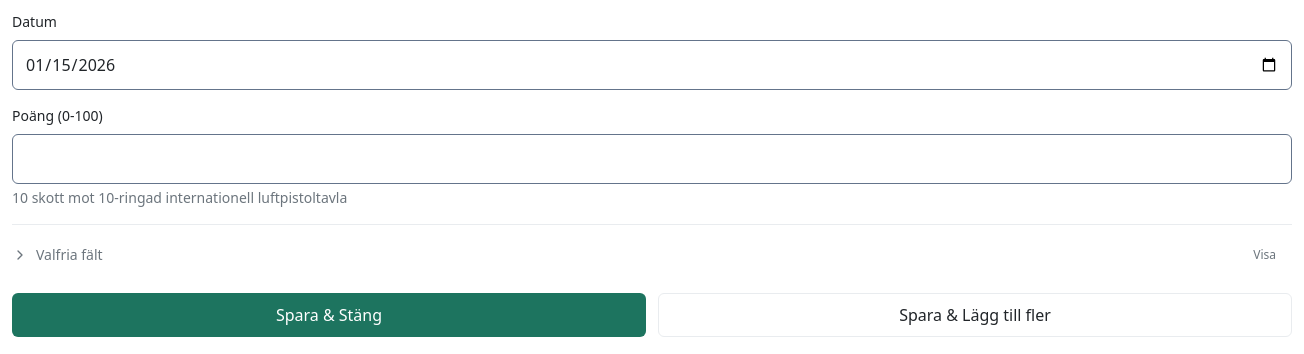
Test case: AirPistolPrecisionForm › save flows › shows validation error and prevents submission with invalid data
Type "150" into the number field named "Poäng i luftpistolserie".
click(652, 159); type("150")  # box [12,134,1292,184]
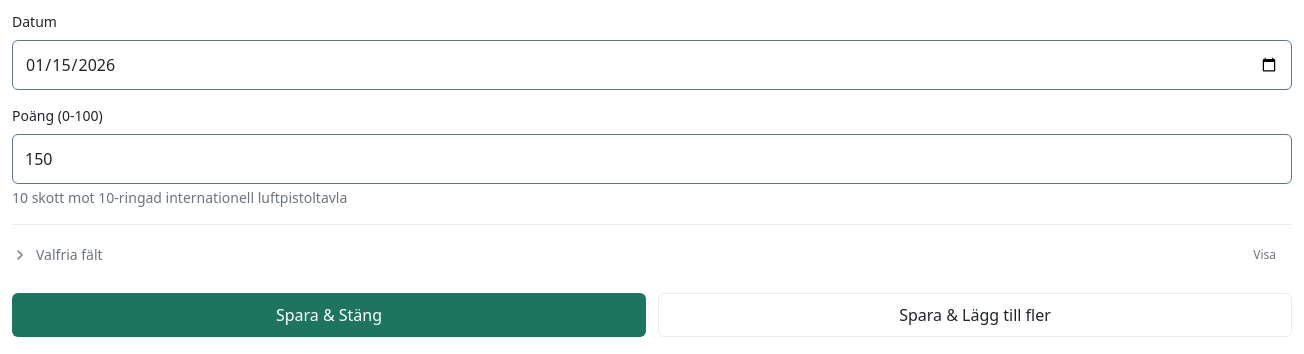
Click the button "Spara & Lägg till fler".
click(975, 315)  # box [658,293,1292,337]
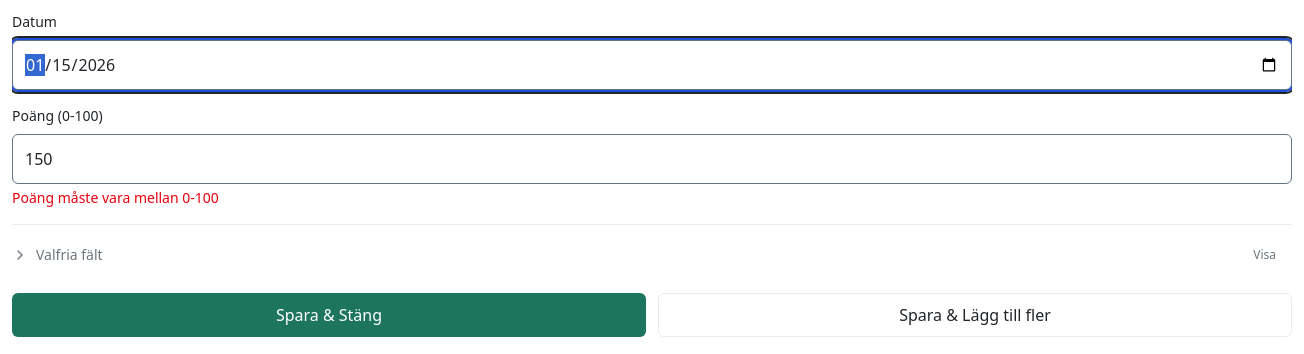
Check: the text "Poäng måste vara mellan 0-100" is shown, box [12,188,219,207]
